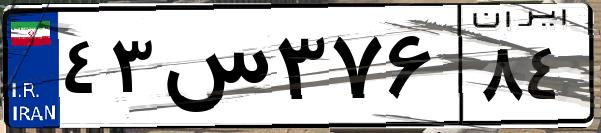3: (270, 28, 330, 110), (110, 28, 158, 98)
4: (57, 26, 110, 100), (525, 38, 570, 115)
6: (385, 28, 445, 110)
7: (330, 28, 385, 110)
8: (475, 38, 525, 113)
س: (158, 20, 270, 120)
